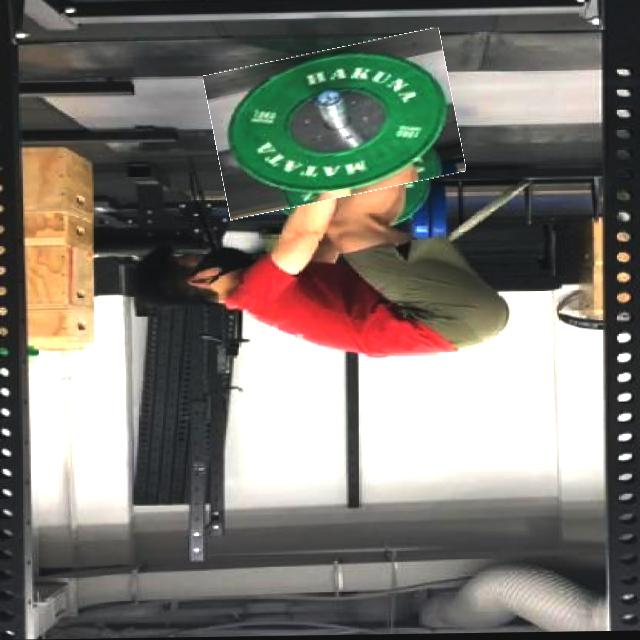barbell: (210, 40, 461, 211)
